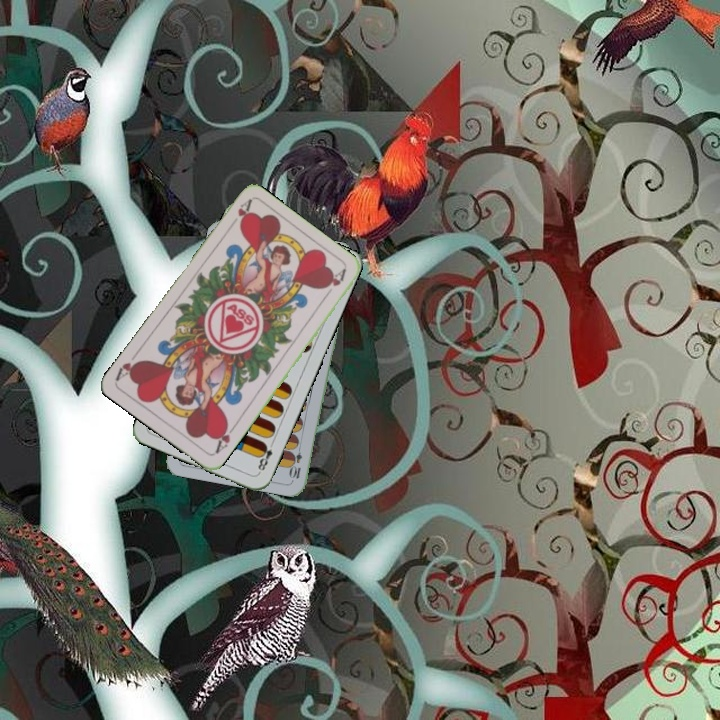E10: (287, 441, 305, 481)
E8: (254, 437, 277, 476)
HA: (224, 196, 254, 232), (211, 418, 238, 456)
